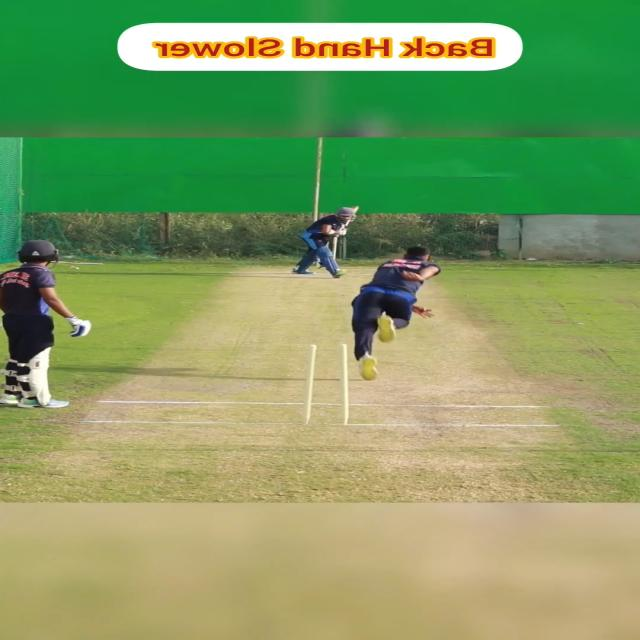stump: (302, 342, 351, 424)
